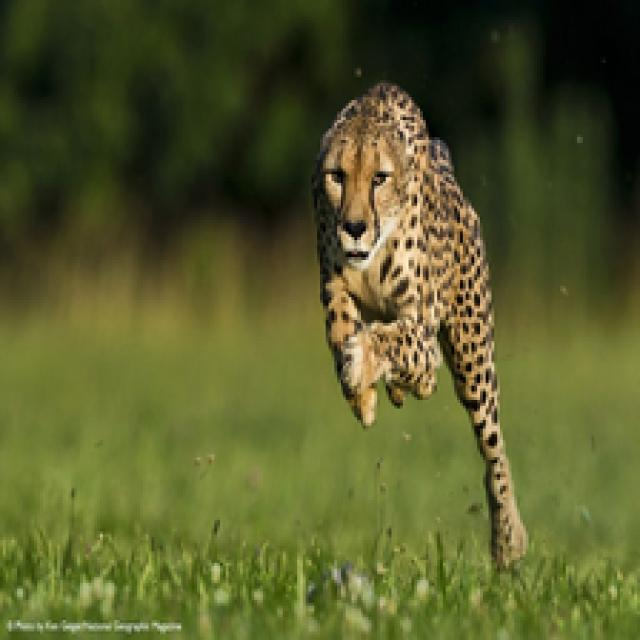cheetah: (302, 65, 538, 594)
